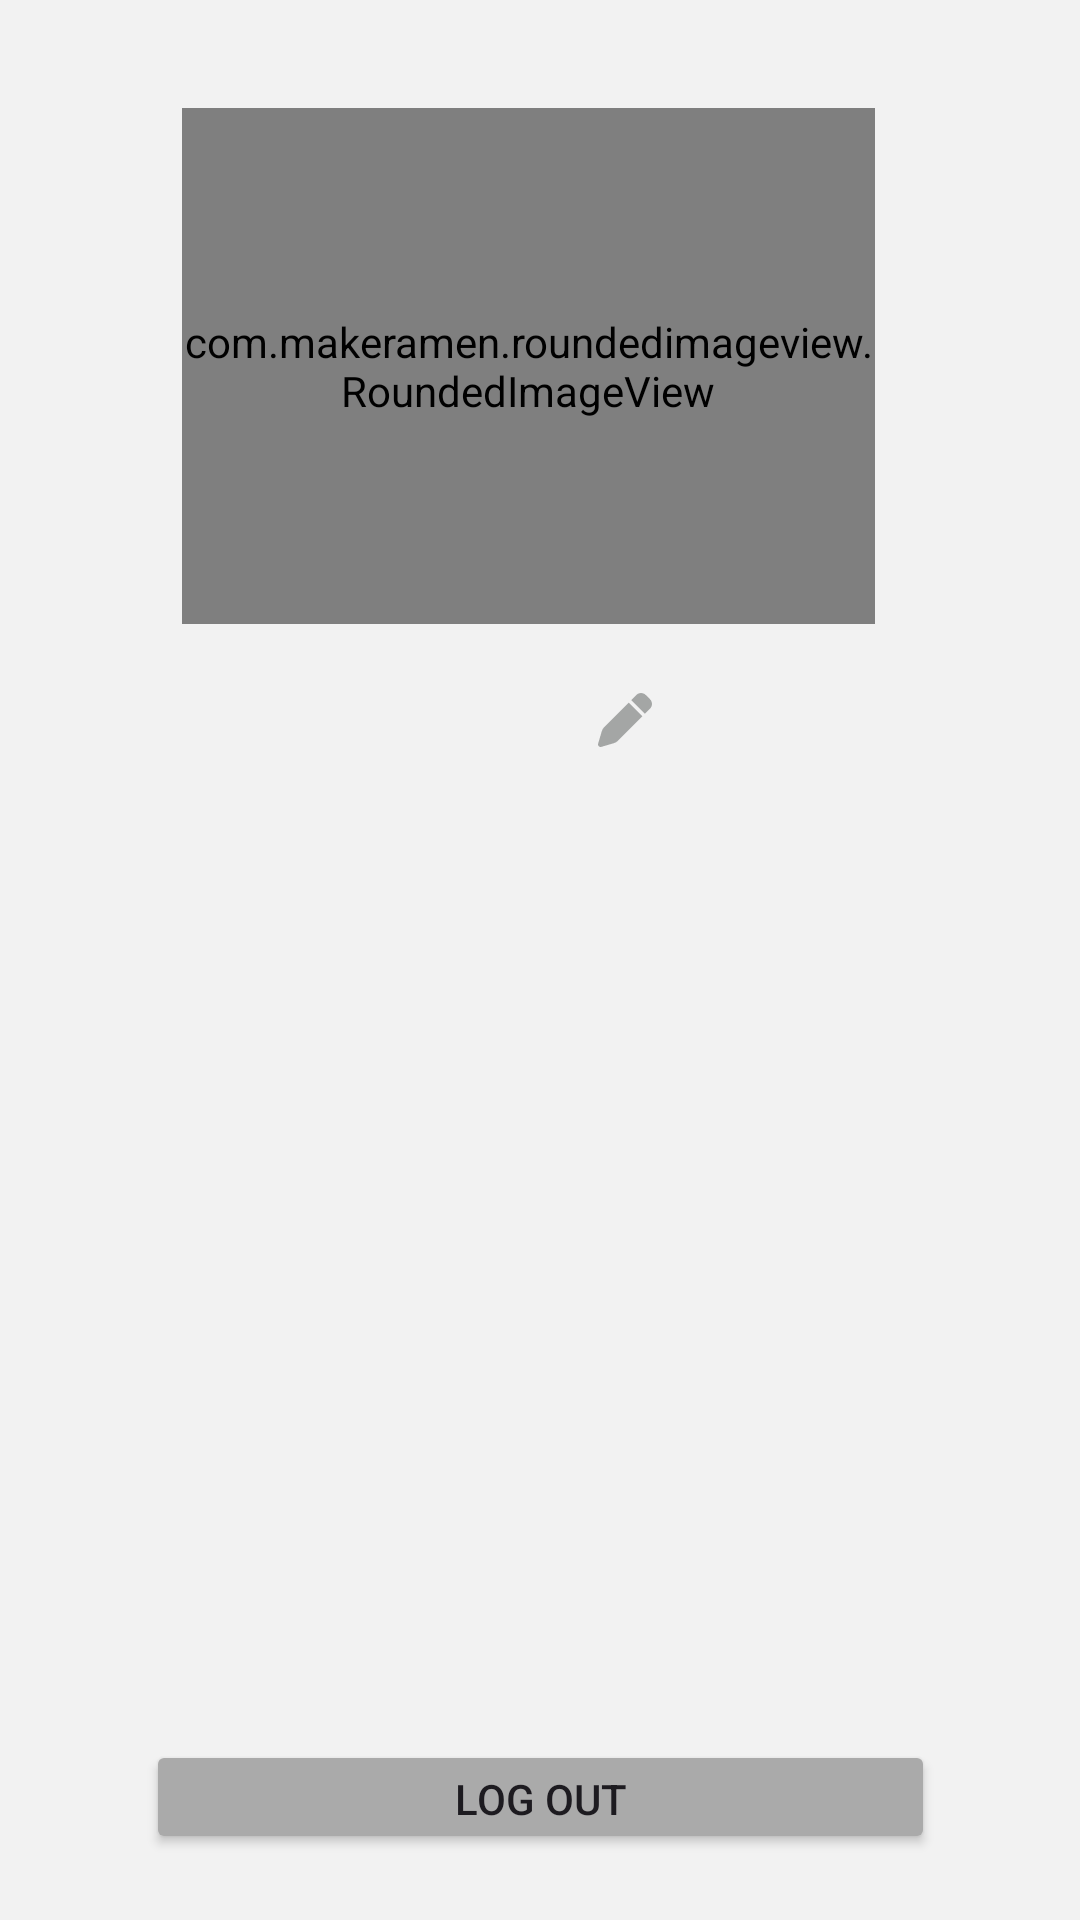

Where to tap for icons on this 1080w x 1920h app screen, as (x=x, y=y):
pen: (x=625, y=720)
